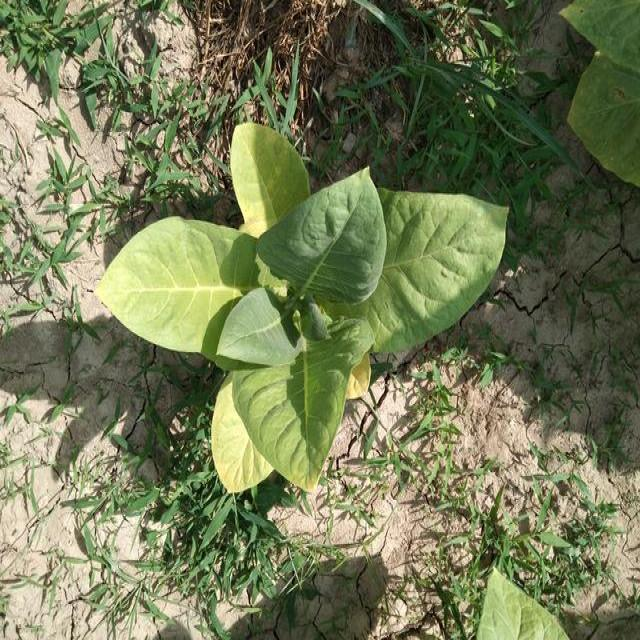crop: (93, 116, 516, 496)
